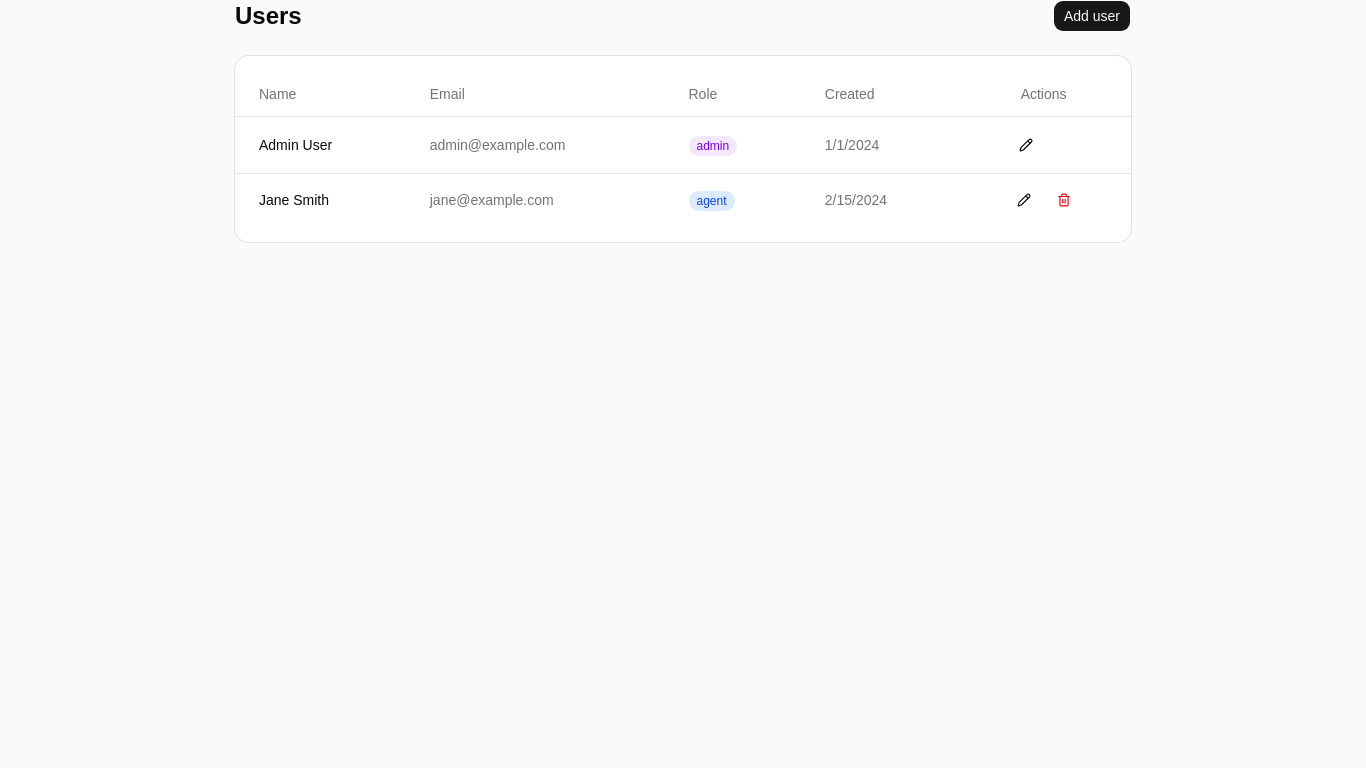
Scenario: Users page › Edit user › updates the row in-place after a successful edit
Expected: the text "Jane Smith" is shown, x1=235 y1=174 x2=406 y2=226
Click the button named "edit jane smith". click: (1024, 200)
box: x1=1006 y1=186 x2=1042 y2=214
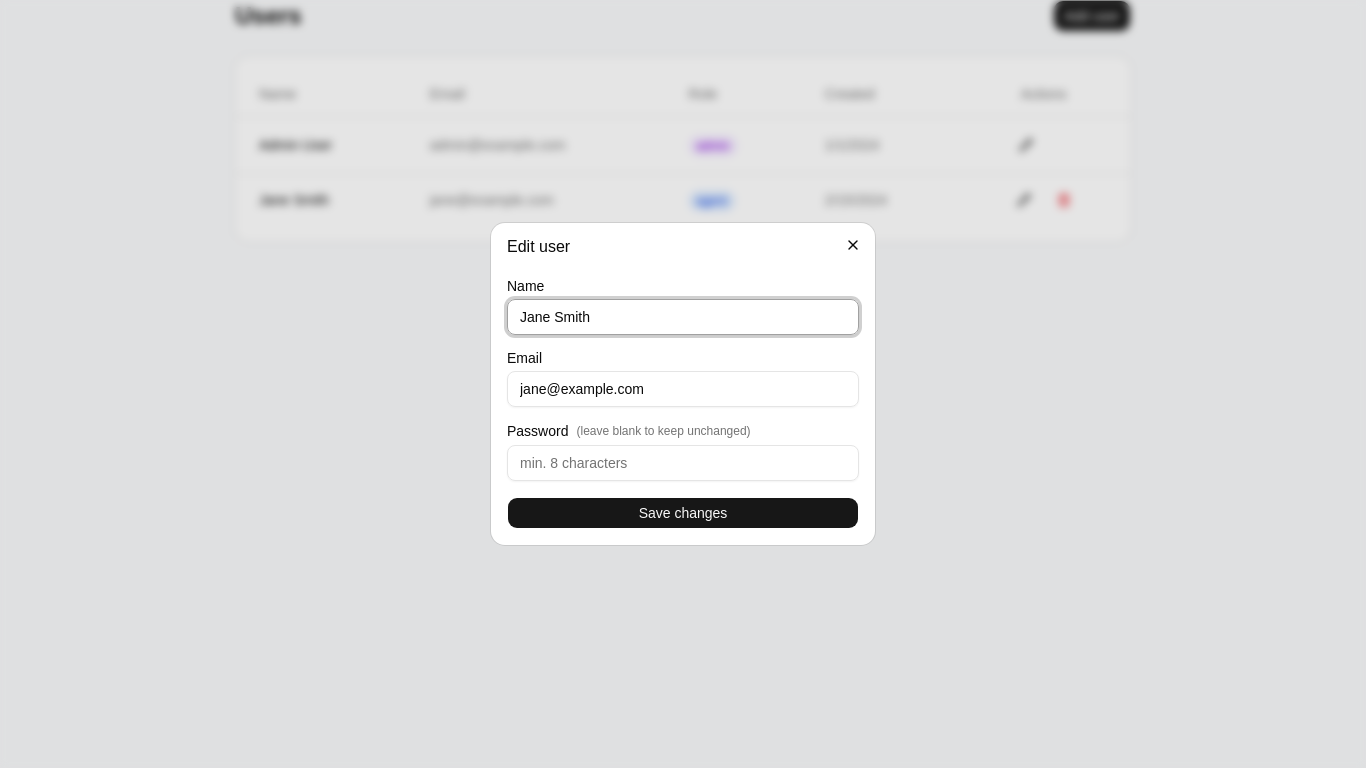
Type "Jane Updated" into the field labelled "Name". click: (683, 317)
box: x1=507 y1=299 x2=859 y2=335
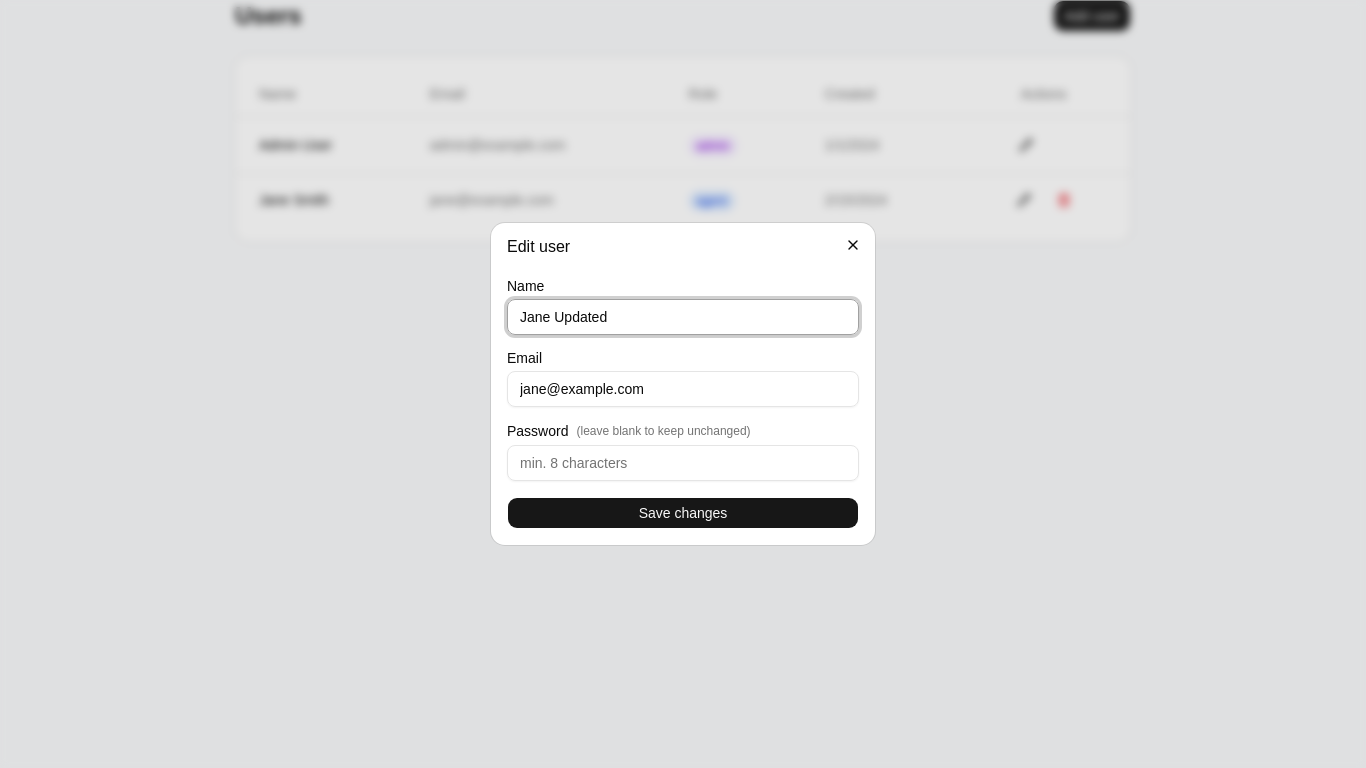
Click the button "Save changes". click: (683, 513)
box: x1=507 y1=497 x2=859 y2=529
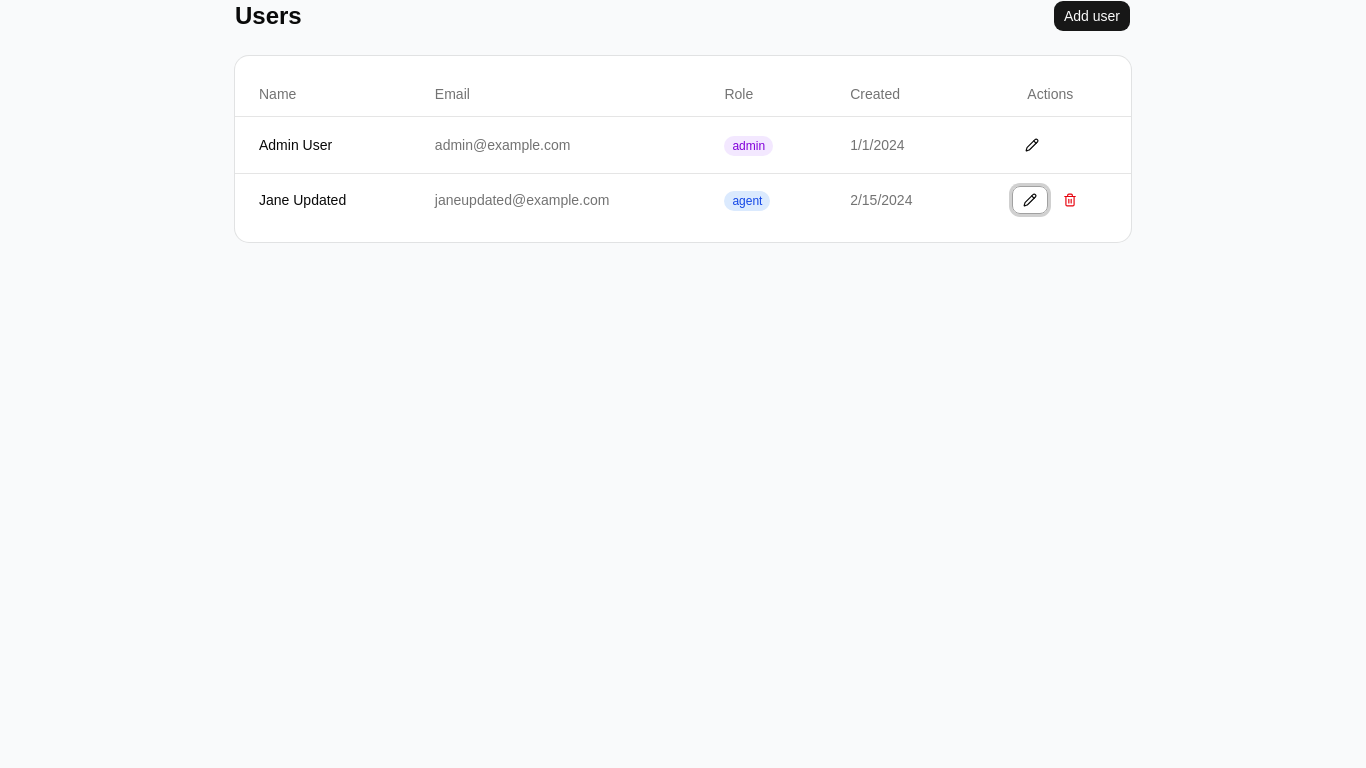
Expected: the heading "Edit user" is gone
Expected: the text "Jane Updated" is shown, x1=235 y1=174 x2=411 y2=226
Expected: the text "Jane Smith" is gone
